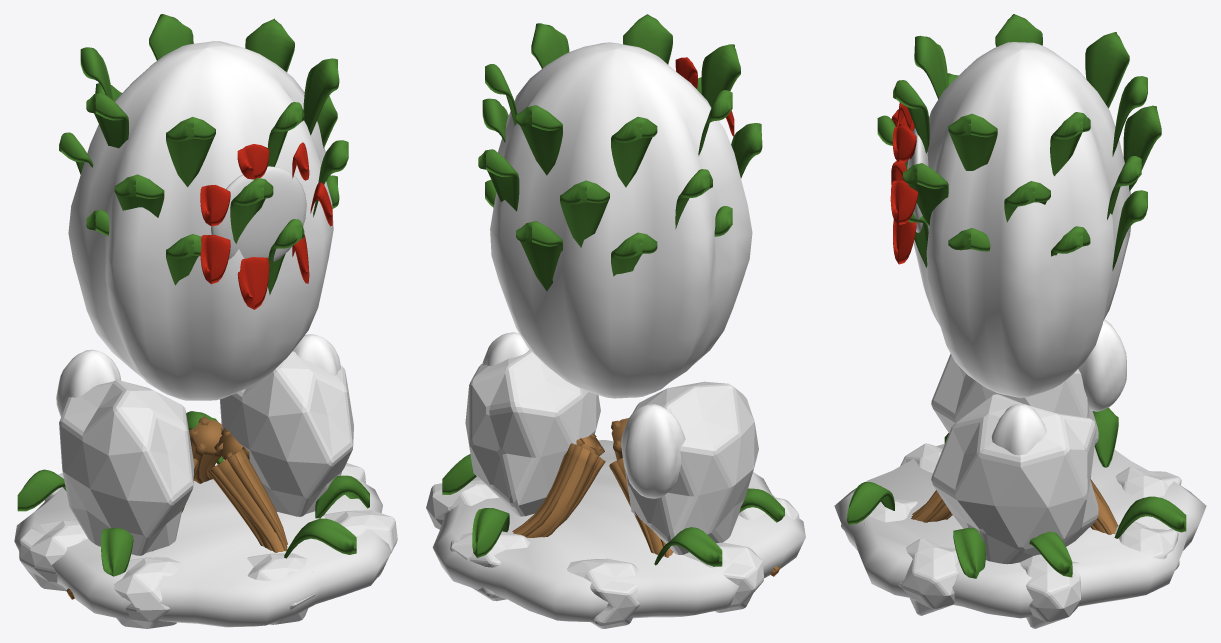
The model's file is dragonfruit-3.fbx.
The picture shows the model from 3 angles, left to right: view 1: azimuth 30°, elevation 25°; view 2: azimuth 150°, elevation 25°; view 3: azimuth 270°, elevation 25°; orthographic projection. The views are drawn at different scales.
Visible parts, largest first — view 1: Turret_PortalPeel, Turret_Stone, EarthBed, Petals_PortalBamboo, dragonfruit-3_Stone, Barrel_PortalPeel, dragonfruit-3_Bark, dragonfruit-3_PortalBamboo, EmberThroat; view 2: Turret_PortalPeel, Turret_Stone, EarthBed, Petals_PortalBamboo, dragonfruit-3_Stone, dragonfruit-3_Bark, dragonfruit-3_PortalBamboo, Barrel_PortalPeel; view 3: Turret_PortalPeel, Turret_Stone, EarthBed, Petals_PortalBamboo, dragonfruit-3_Stone, dragonfruit-3_PortalBamboo, Barrel_PortalPeel, dragonfruit-3_Bark, EmberThroat.
Boxes of the visible parts, x1,y1,x2,y2 form: Turret_PortalPeel: [56, 41, 340, 416]; Turret_Stone: [59, 351, 353, 555]; EarthBed: [14, 475, 391, 627]; Petals_PortalBamboo: [59, 14, 348, 295]; dragonfruit-3_Stone: [19, 459, 397, 628]; Barrel_PortalPeel: [200, 142, 332, 309]; dragonfruit-3_Bark: [66, 416, 287, 599]; dragonfruit-3_PortalBamboo: [17, 411, 369, 576]; EmberThroat: [211, 166, 306, 261]; Turret_PortalPeel: [482, 42, 752, 498]; Turret_Stone: [465, 349, 758, 554]; EarthBed: [432, 440, 805, 621]; Petals_PortalBamboo: [478, 14, 762, 291]; dragonfruit-3_Stone: [426, 480, 799, 628]; dragonfruit-3_Bark: [512, 418, 779, 576]; dragonfruit-3_PortalBamboo: [442, 454, 784, 566]; Barrel_PortalPeel: [675, 57, 734, 136]; Turret_PortalPeel: [913, 42, 1130, 455]; Turret_Stone: [931, 354, 1098, 564]; EarthBed: [834, 444, 1206, 618]; Petals_PortalBamboo: [877, 14, 1161, 270]; dragonfruit-3_Stone: [841, 443, 1181, 628]; dragonfruit-3_PortalBamboo: [847, 407, 1186, 578]; Barrel_PortalPeel: [890, 102, 918, 264]; dragonfruit-3_Bark: [911, 479, 1117, 534]; EmberThroat: [907, 127, 928, 232].
Bounding box in the file's own units: 83.98 × 125 × 82.7.
